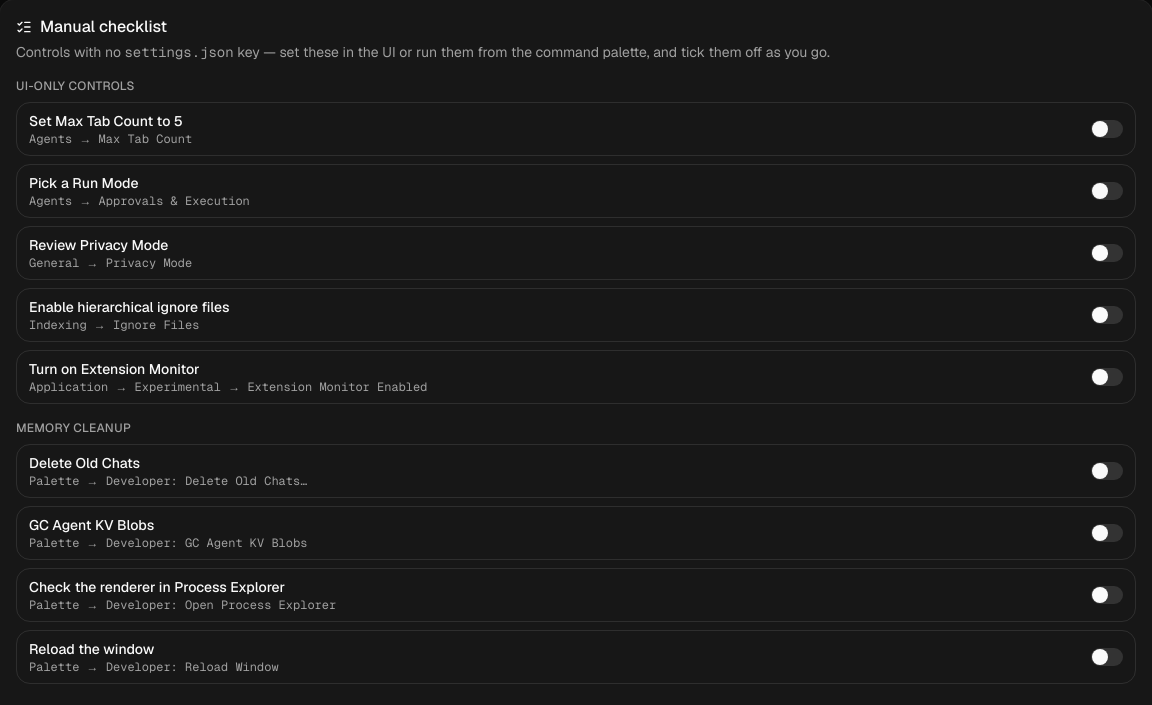
checking a manual step updates the progress count
Click the switch named "Set Max Tab Count to 5".
click(1107, 129)  # box [1091,120,1123,138]
(page scrolled)
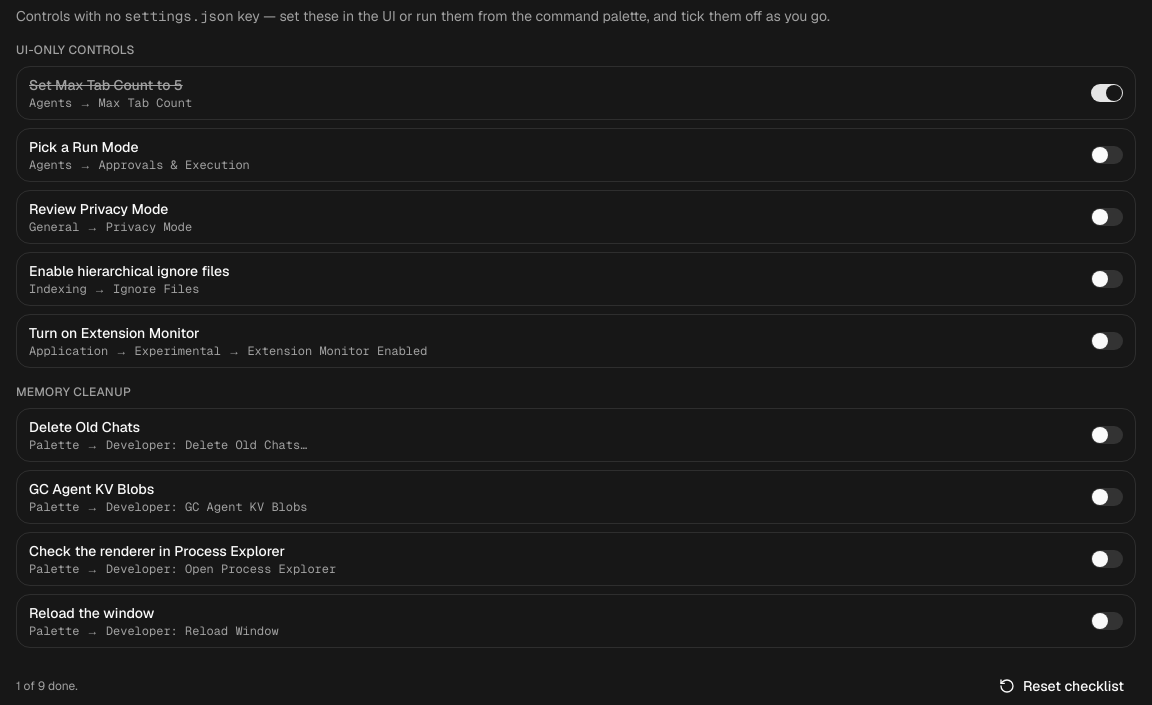
expect the text "1 of 9 done." is shown: met, box [16,678,78,694]
